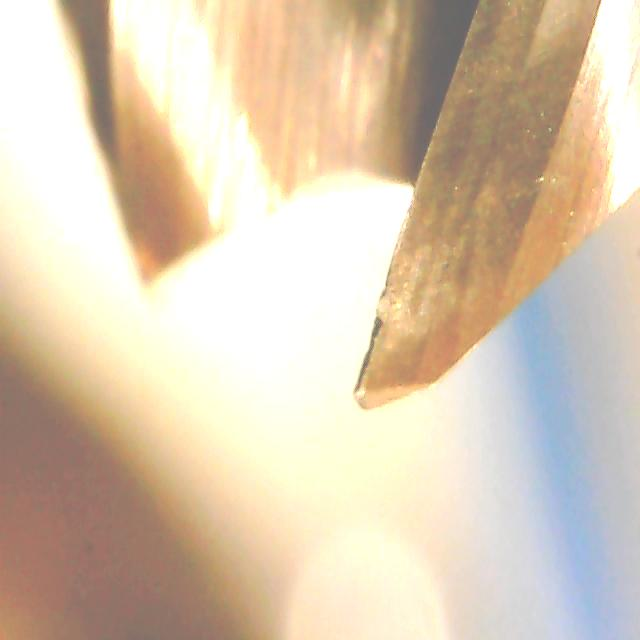Tool-wear-class-1: (331, 196, 493, 421)
